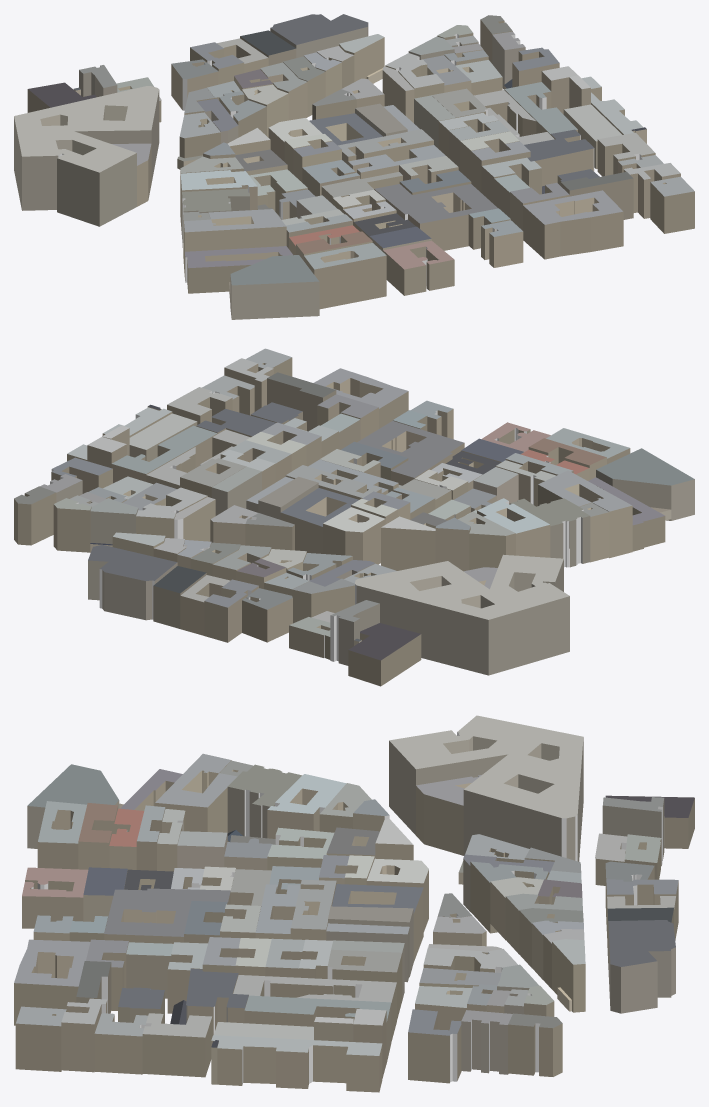
3 views of the same model, one above another, from view 1: azimuth 30°, elevation 25°; view 2: azimuth 150°, elevation 25°; view 3: azimuth 270°, elevation 25° (orthographic). The views are drawn at different scales.
Visible parts, largest first — view 1: tuile; view 2: tuile; view 3: tuile.
Boxes of the visible parts, x1,y1,x2,y2 form: tuile: [14, 14, 694, 319]; tuile: [14, 348, 694, 686]; tuile: [14, 715, 694, 1092].
Size of the model in its own units: 296 by 30.55 by 269.
